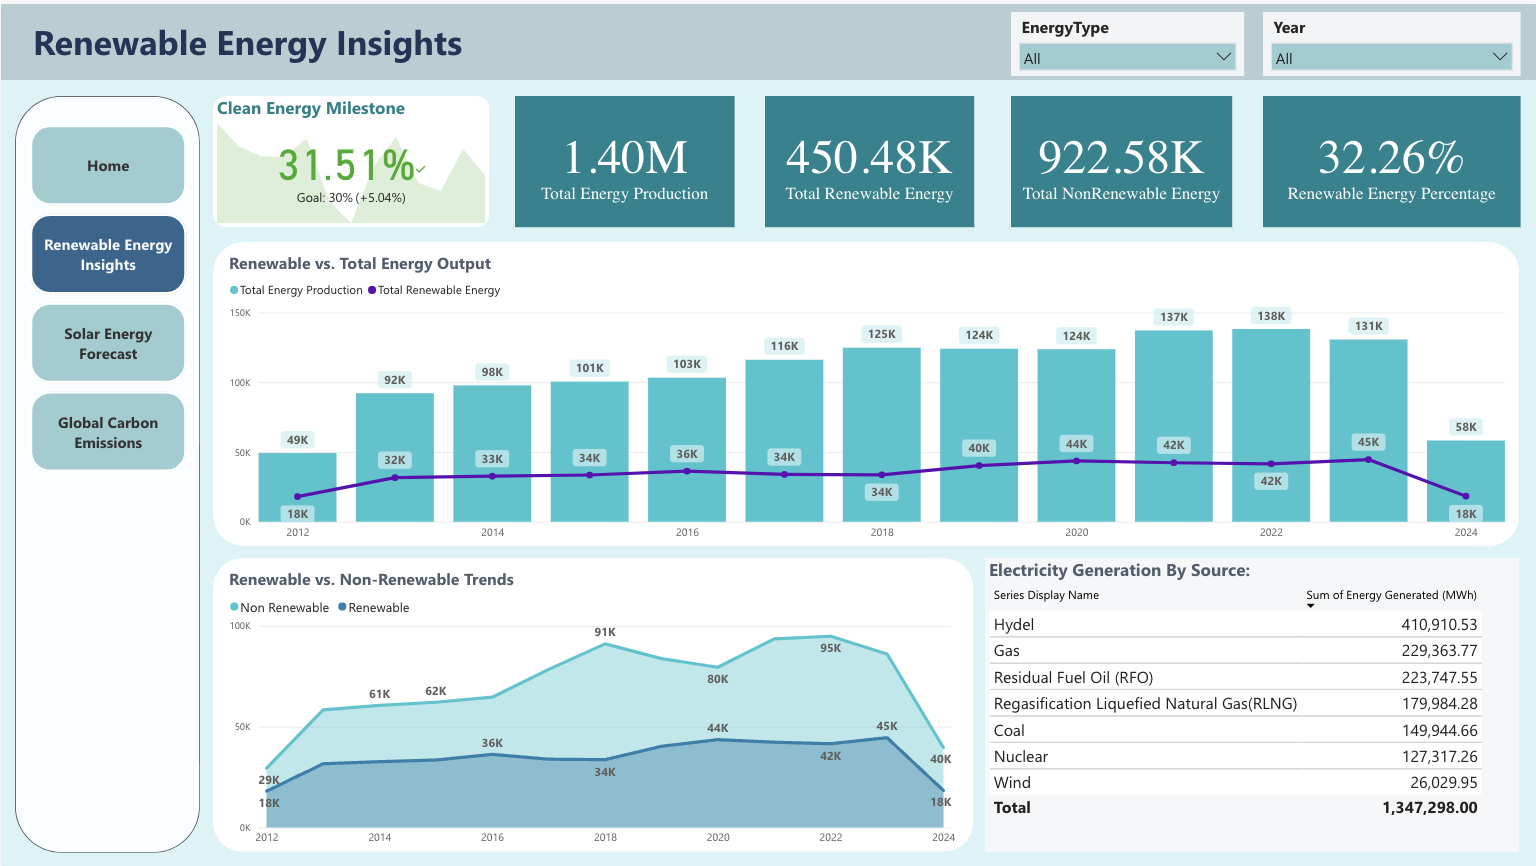

Layout of this report page (visuals, bound fields, positions):
{"tool":"powerbi","page":{"name":"Renewable Energy Insights","canvas":[1920,1080],"ordinal":1},"visuals":[{"type":"shape","box":[265.7,114.5,345.6,164.2],"z":0},{"type":"shape","box":[0,0,1919,95.2],"z":1000},{"type":"shape","box":[17.3,114.5,231.1,946.1],"z":2000},{"type":"shape","box":[265.7,693.4,950.4,367.2],"z":3000},{"type":"card","fields":{"Values":["_Measures.Total NonRenewable Energy"]},"box":[1261.4,114.5,276.5,164.2],"z":4000},{"type":"card","fields":{"Values":["_Measures.Total Renewable Energy"]},"box":[954.7,114.5,261.4,164.2],"z":5000},{"type":"slicer","fields":{"Values":["Power Generation.Observation Date.Variation.Date Hierarchy.Year"]},"box":[1576.8,10.8,321.8,79.9],"z":6000},{"type":"card","fields":{"Values":["_Measures.Total Energy Production"]},"box":[641.5,114.5,274.3,164.2],"z":7000},{"type":"kpi","title":"Clean Energy Milestone","fields":{"Indicator":["_Measures.Renewable Energy Percentage"],"Goal":["_Measures.Renewable Energy Target"],"TrendLine":["Power Generation.Observation Date.Variation.Date Hierarchy.Year"]},"box":[265.7,114.5,345.6,164.2],"z":8000},{"type":"textbox","box":[35.7,11.9,595.2,83.3],"z":9000},{"type":"card","fields":{"Values":["_Measures.Renewable Energy Percentage"]},"box":[1576.8,114.5,321.8,164.2],"z":10000},{"type":"shape","box":[265.7,298.1,1633,380.2],"z":11000},{"type":"lineClusteredColumnComboChart","title":"Renewable vs. Total Energy Output","fields":{"Category":["Power Generation.Observation Date.Variation.Date Hierarchy.Year","Power Generation.Observation Date.Variation.Date Hierarchy.Quarter","Power Generation.Observation Date.Variation.Date Hierarchy.Month","Power Generation.Observation Date.Variation.Date Hierarchy.Day"],"Y":["_Measures.Total Energy Production"],"Y2":["_Measures.Total Renewable Energy"]},"box":[280.8,308.9,1604.9,369.4],"z":12000},{"type":"areaChart","title":"Renewable vs. Non-Renewable Trends","fields":{"Category":["Power Generation.Observation Date.Variation.Date Hierarchy.Year"],"Y":["_Measures.Total NonRenewable Energy","_Measures.Total Renewable Energy"]},"box":[280.8,704.2,918,356.4],"z":13000},{"type":"tableEx","title":"Electricity Generation By Source:","fields":{"Values":["Power Generation.Series Display Name","Sum(Power Generation.Observation Value)"]},"box":[1231.2,693.4,667.4,367.2],"z":14000},{"type":"slicer","fields":{"Values":["Power Generation.EnergyType"]},"box":[1261.4,10.8,291.6,79.9],"z":15000},{"type":"pageNavigator","box":[34.6,149,198.7,438.5],"z":16000}]}

Visuals, with their boxes in screenshot pixels (x1, y1, x2, y2), scaled from the page's 1920x1080 canvas onto the 1536x866 screenshot:
shape: [x1=213, y1=92, x2=489, y2=223]
shape: [x1=0, y1=0, x2=1535, y2=76]
shape: [x1=14, y1=92, x2=199, y2=850]
shape: [x1=213, y1=556, x2=973, y2=850]
card - _Measures.Total NonRenewable Energy: [x1=1009, y1=92, x2=1230, y2=223]
card - _Measures.Total Renewable Energy: [x1=764, y1=92, x2=973, y2=223]
slicer - Power Generation.Observation Date.Variation.Date Hierarchy.Year: [x1=1261, y1=9, x2=1519, y2=73]
card - _Measures.Total Energy Production: [x1=513, y1=92, x2=733, y2=223]
"Clean Energy Milestone" kpi: [x1=213, y1=92, x2=489, y2=223]
textbox: [x1=29, y1=10, x2=505, y2=76]
card - _Measures.Renewable Energy Percentage: [x1=1261, y1=92, x2=1519, y2=223]
shape: [x1=213, y1=239, x2=1519, y2=544]
"Renewable vs. Total Energy Output" lineClusteredColumnComboChart: [x1=225, y1=248, x2=1509, y2=544]
"Renewable vs. Non-Renewable Trends" areaChart: [x1=225, y1=565, x2=959, y2=850]
"Electricity Generation By Source:" tableEx: [x1=985, y1=556, x2=1519, y2=850]
slicer - Power Generation.EnergyType: [x1=1009, y1=9, x2=1242, y2=73]
pageNavigator: [x1=28, y1=119, x2=187, y2=471]
